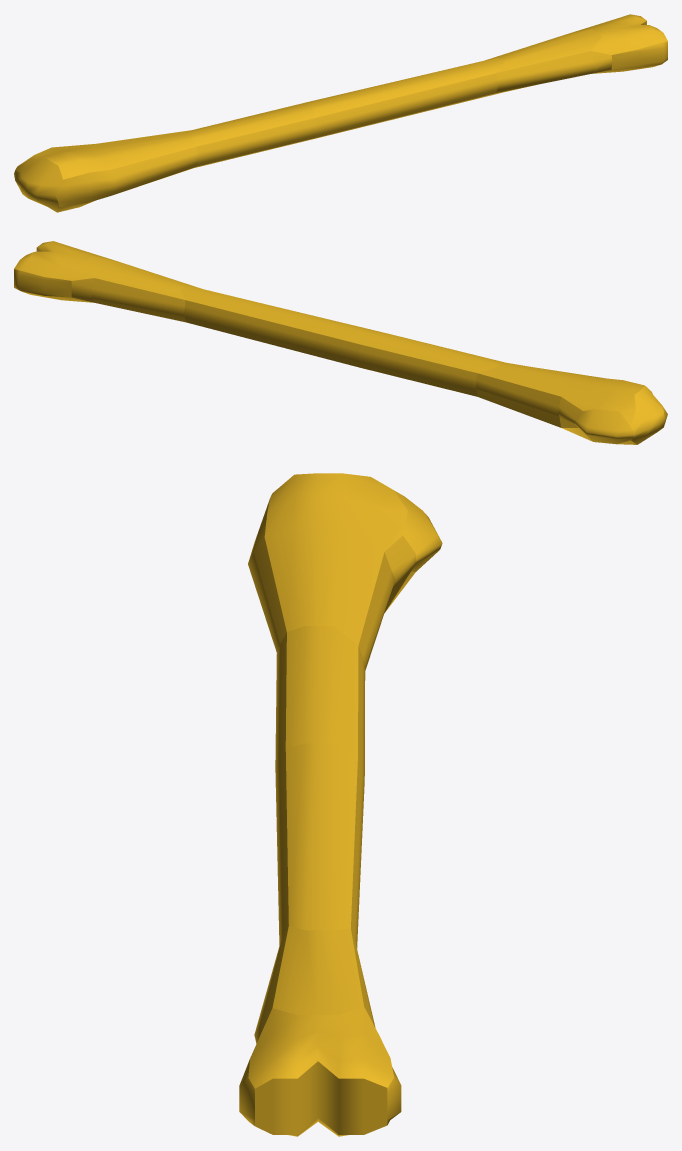
File: Bras.fbx
3 renders of one model, top to bottom at view 1: azimuth 30°, elevation 25°; view 2: azimuth 150°, elevation 25°; view 3: azimuth 270°, elevation 25°, orthographic. The views are drawn at different scales.
Parts seen in each view (by area): view 1: Bras; view 2: Bras; view 3: Bras.
Boxes of the visible parts, <box> form: Bras: <box>14,14,667,212</box>; Bras: <box>14,241,667,444</box>; Bras: <box>239,473,442,1136</box>.
Size of the model in its own units: 11.14 by 0.7927 by 1.57.
